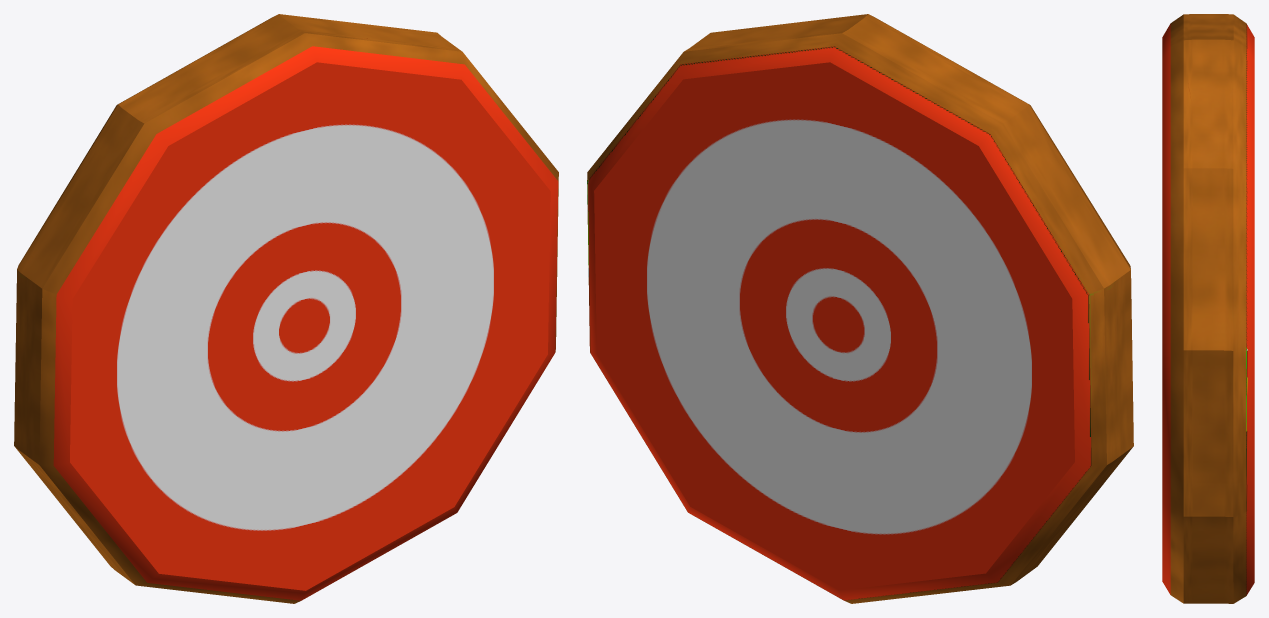
File: RedAim.fbx
3 renders of one model, left to right at view 1: azimuth 30°, elevation 25°; view 2: azimuth 150°, elevation 25°; view 3: azimuth 270°, elevation 25°, orthographic. The views are drawn at different scales.
Parts seen in each view (by area): view 1: Cylinder002; view 2: Cylinder002; view 3: Cylinder002.
Part boxes in pixels (<box>): Cylinder002: <box>14,14,558,603</box>; Cylinder002: <box>587,14,1133,603</box>; Cylinder002: <box>1162,14,1254,603</box>.
Bounding box in the file's own units: 27.07 × 28.26 × 4.35.
